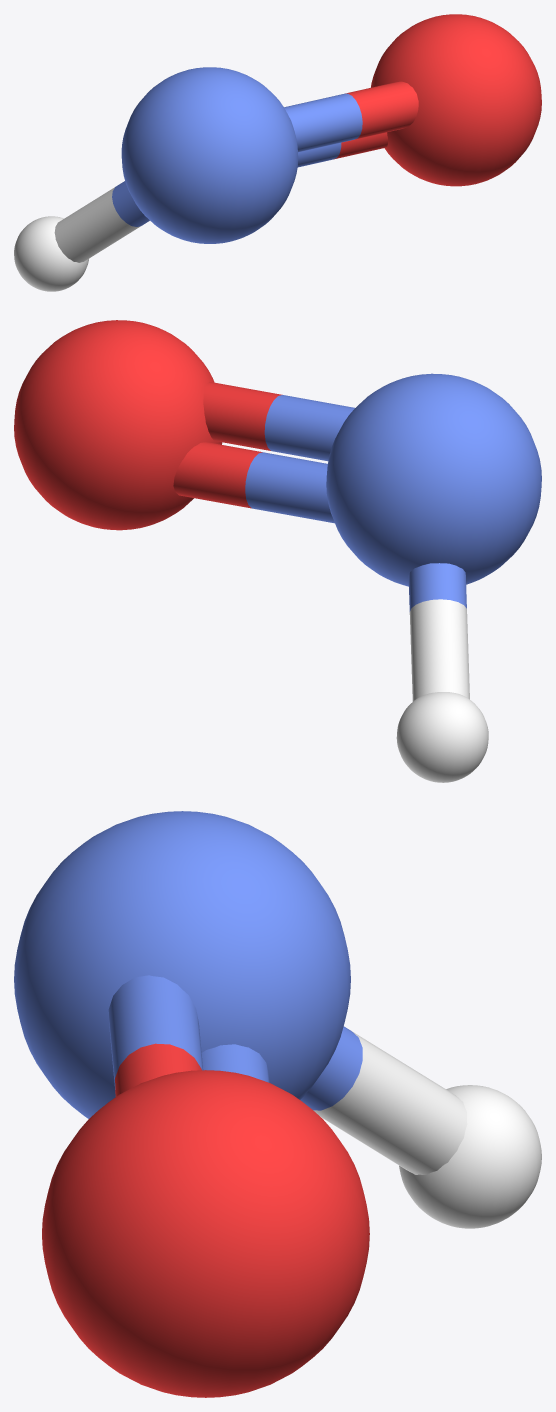
File: Nitrogen monoxide.fbx
3 views of the same model, one above another, from view 1: azimuth 30°, elevation 25°; view 2: azimuth 150°, elevation 25°; view 3: azimuth 270°, elevation 25° (orthographic). The views are drawn at different scales.
Parts seen in each view (by area): view 1: Nitrogen monoxide; view 2: Nitrogen monoxide; view 3: Nitrogen monoxide.
Boxes of the visible parts, x1,y1,x2,y2 form: Nitrogen monoxide: (14, 14, 541, 291); Nitrogen monoxide: (14, 320, 541, 782); Nitrogen monoxide: (14, 811, 541, 1397).
Bounding box in the file's own units: 216 × 116 × 118.
